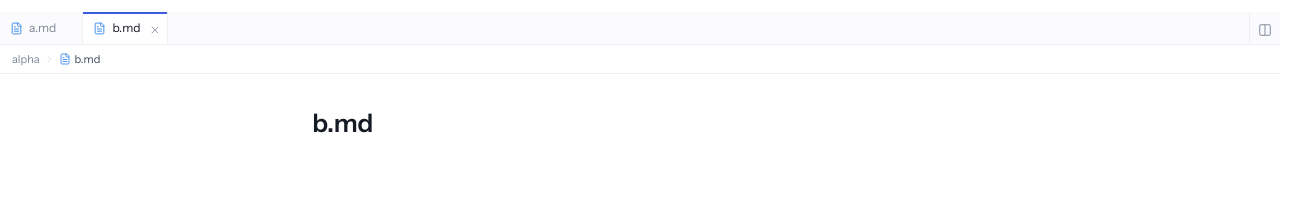
Scenario: EditorGroups › dropping in the MIDDLE moves into that pane without splitting
Expected: the element with test id "doc-viewer" is shown, [312,107,373,138]
Click the button with test id "split-editor".
click(1264, 28)  # box [1249,12,1280,44]
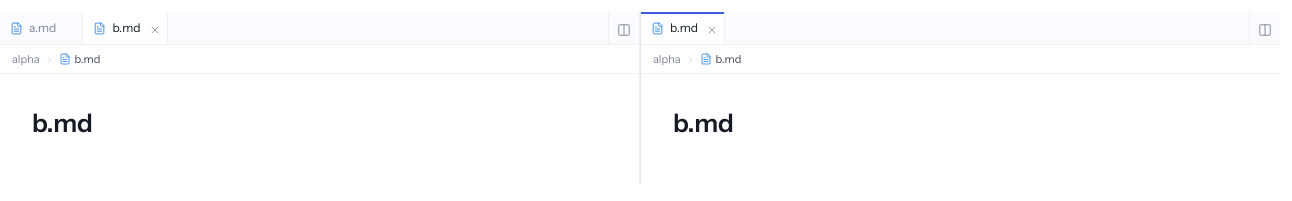
Result: the number of elements with test id "editor-pane" is 2 at [0,12,640,184]; [641,12,1280,184]
